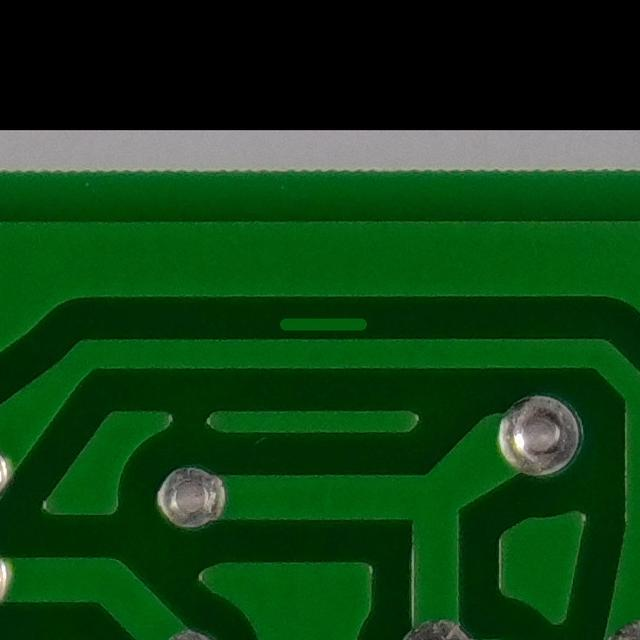spurious_copper: (256, 290, 385, 349)
